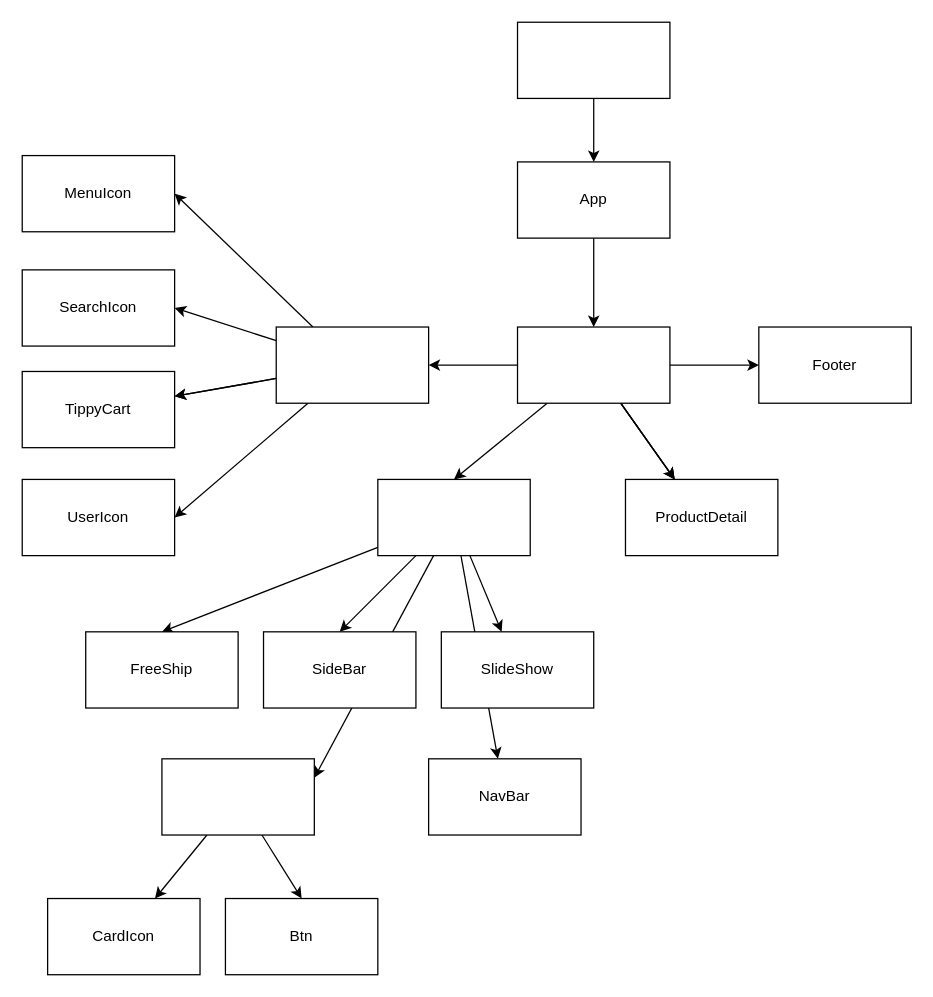
Some shapes in this 933 by 997 pixel diagram are drawn without their labels. The centre of each missing label's shape, as x and y in pixels:
DefautlLayout: [593,364]
GlobalStyle: [593,59]
Header: [352,364]
Home: [453,517]
ProDuctCard: [237,796]
